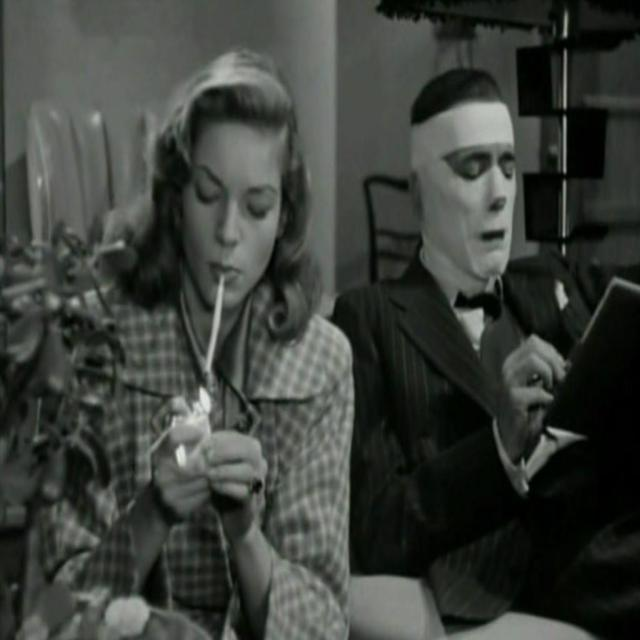smoking: (141, 58, 293, 534)
